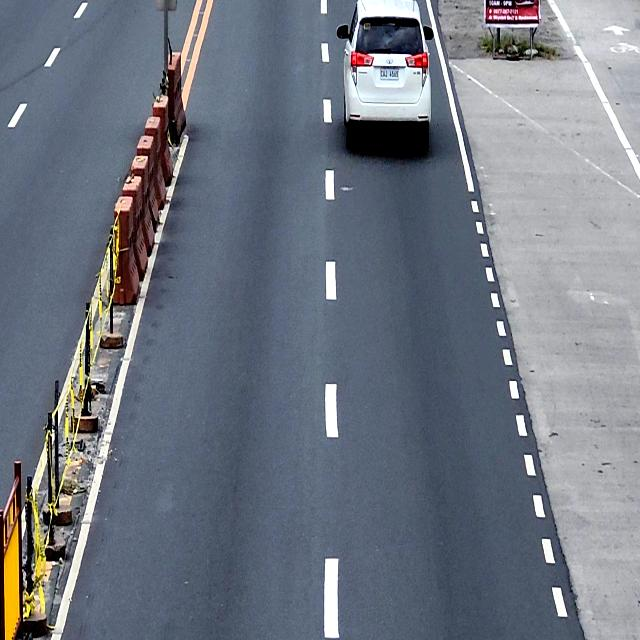Car: (336, 0, 434, 151)
License-Plate: (378, 66, 400, 80)
